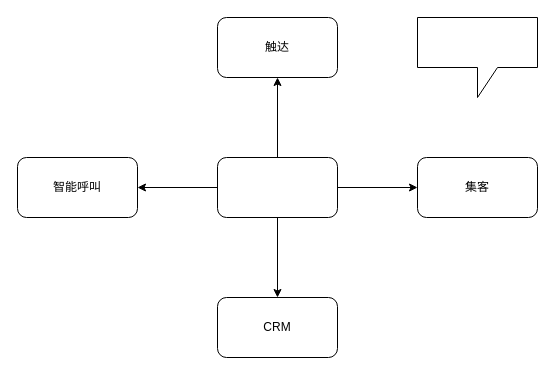
The diagram is 555 pixels wide and 375 high, and some of its shapes have lost their labels. Each missing label, with the centre of its shape:
拓客: the point at 277,187
解决多个系统之间数据同步实时性、一致性等问题: the point at 477,57
